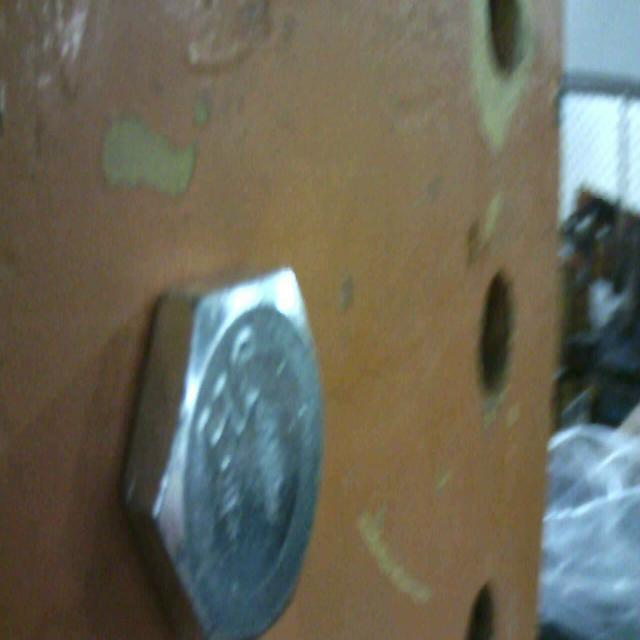Missing bolt: (470, 267, 522, 395), (483, 1, 531, 81), (467, 576, 505, 640)
Regular bolt: (114, 262, 333, 640)
